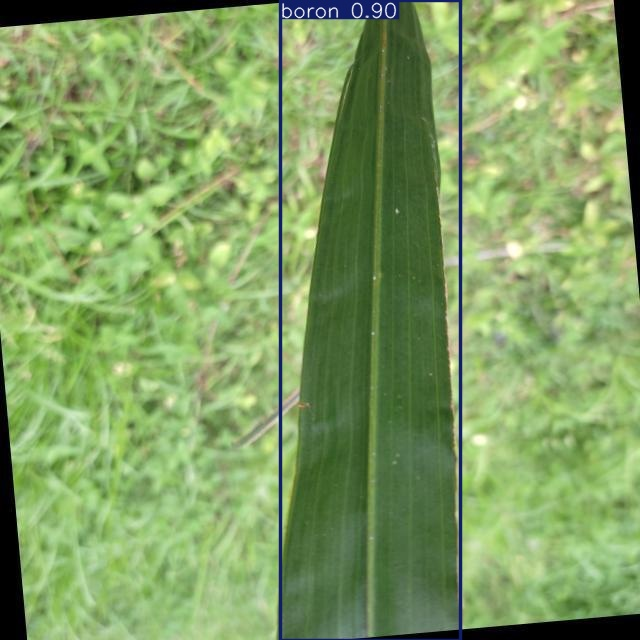nitrogen: (281, 0, 461, 640)
